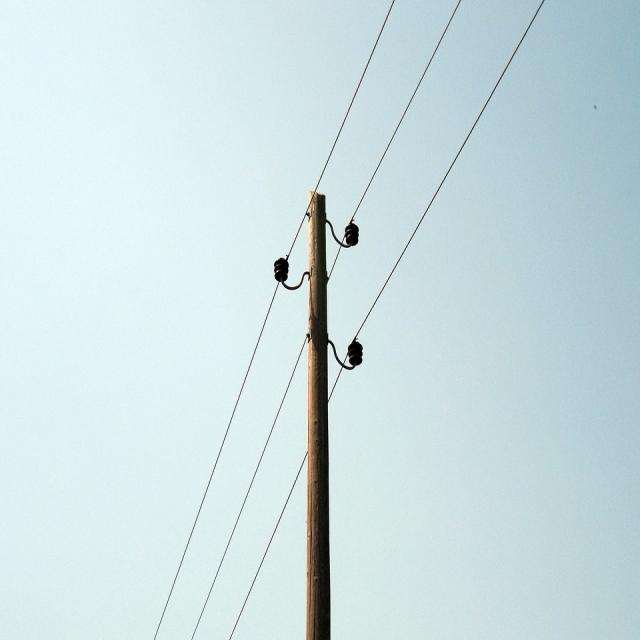pole: (297, 202, 335, 634)
